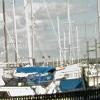Boat: (4, 59, 56, 98)
